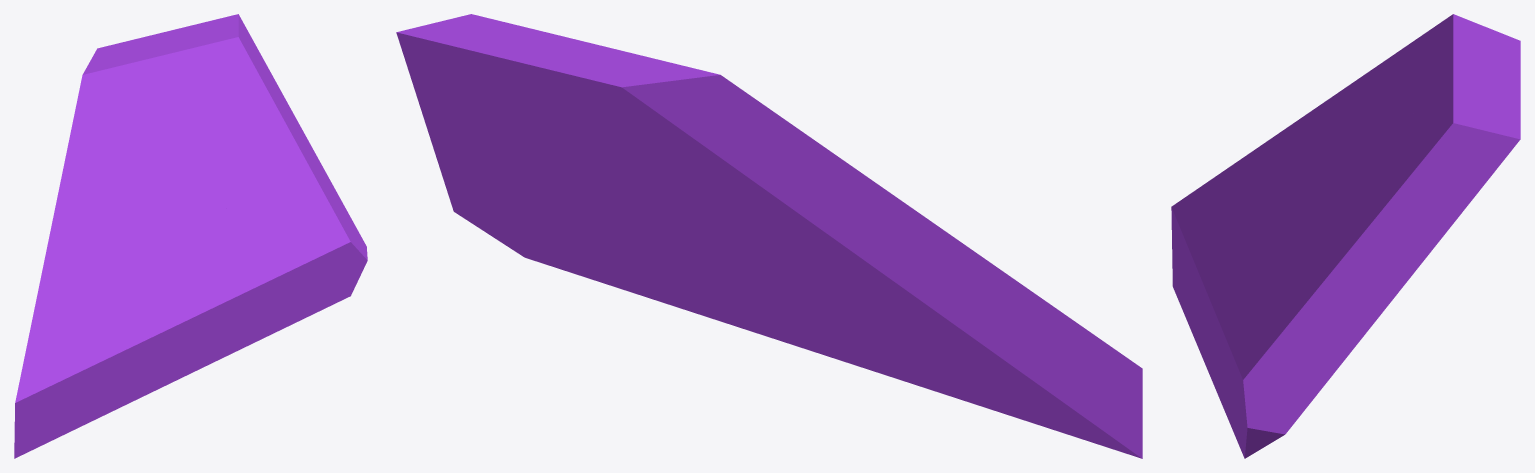
File: Window_128_0_chunks.fbx
3 views of the same model, side by side, from view 1: azimuth 30°, elevation 25°; view 2: azimuth 150°, elevation 25°; view 3: azimuth 270°, elevation 25° (orthographic). The views are drawn at different scales.
Visible parts, largest first — view 1: Window_128_0_0, Window_128_0_1, Window_128_0_4, Window_128_0_8, Window_128_0_9, Window_128_0_7, Window_128_0_5; view 2: Window_128_0_1, Window_128_0_4, Window_128_0_2, Window_128_0_0, Window_128_0_8, Window_128_0_3, Window_128_0_7, Window_128_0_6; view 3: Window_128_0_1, Window_128_0_0, Window_128_0_4, Window_128_0_7, Window_128_0_8, Window_128_0_9, Window_128_0_5.
Part boxes in pixels (x1,y1,x2,y2): Window_128_0_0: (44,47,234,287); Window_128_0_1: (101,14,356,227); Window_128_0_4: (14,263,130,458); Window_128_0_8: (125,263,317,405); Window_128_0_9: (160,199,288,295); Window_128_0_7: (285,202,367,311); Window_128_0_5: (109,277,161,360); Window_128_0_1: (396,14,635,212); Window_128_0_4: (852,232,1142,458); Window_128_0_2: (629,146,931,289); Window_128_0_0: (606,47,962,243); Window_128_0_8: (585,255,938,392); Window_128_0_3: (628,203,912,377); Window_128_0_7: (449,197,616,276); Window_128_0_6: (571,208,803,314); Window_128_0_1: (1280,43,1520,410); Window_128_0_0: (1243,14,1520,248); Window_128_0_4: (1171,125,1290,342); Window_128_0_7: (1231,292,1303,458); Window_128_0_8: (1196,251,1237,441); Window_128_0_9: (1236,244,1307,341); Window_128_0_5: (1195,193,1264,285).
Bounding box in the file's own units: 846 × 560 × 456.
